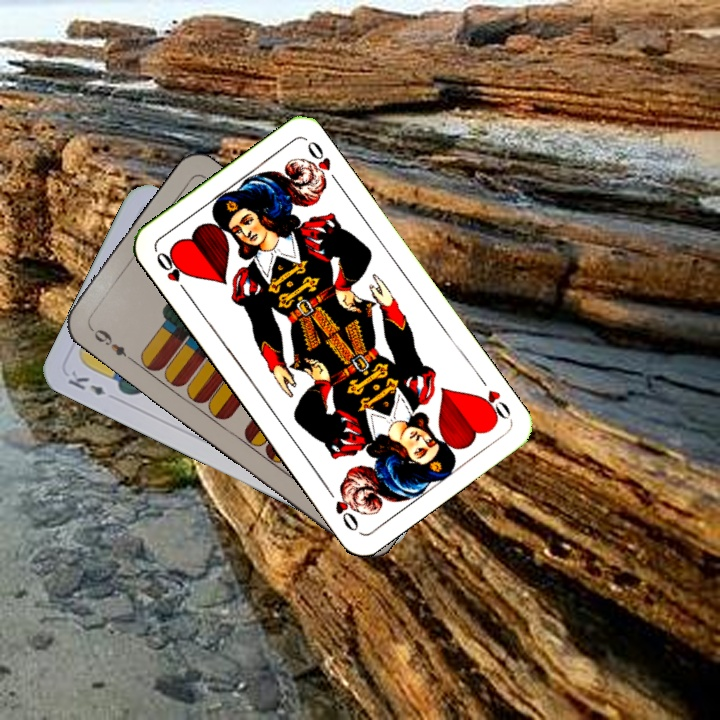E9: (85, 322, 136, 364)
EK: (63, 366, 108, 398)
HO: (473, 371, 514, 426), (152, 247, 192, 298)
